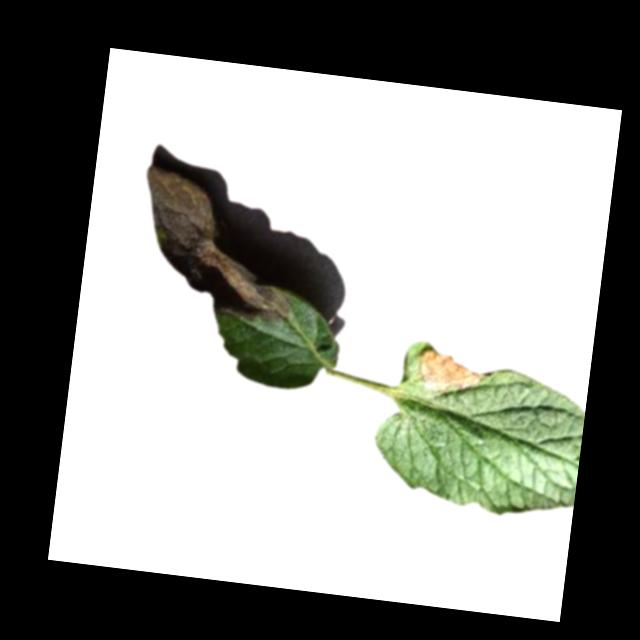Late_blight: (129, 166, 308, 328), (414, 344, 485, 393)
